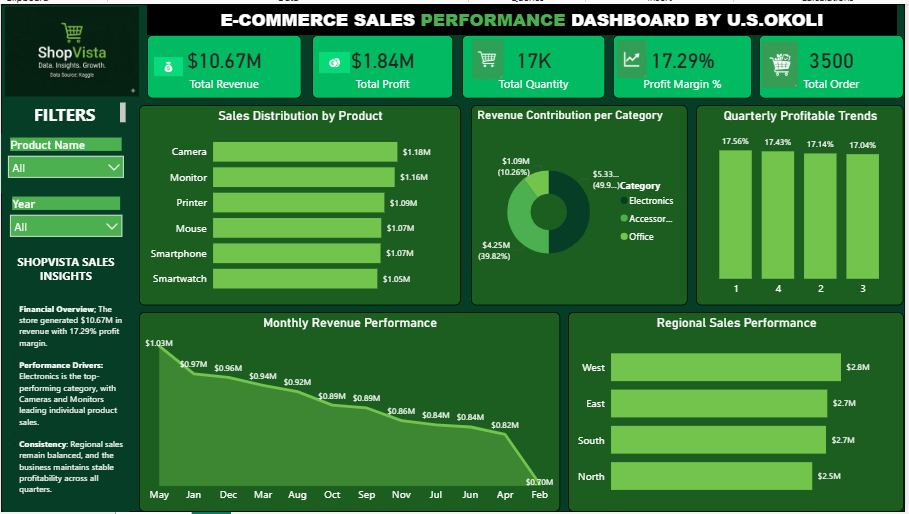

What the dashboard file says about the page in this screenshot:
{"tool":"powerbi","page":{"name":"Page 1","canvas":[1280,720],"ordinal":0},"visuals":[{"type":"card","fields":{"Values":["ecommerce_sales_data.Total Revenue"]},"box":[207.1,44.3,219,90],"z":0,"group":"g1"},{"type":"areaChart","title":"Monthly Revenue Performance","fields":{"Category":["ecommerce_sales_data.Month Name"],"Y":["ecommerce_sales_data.Total Revenue"]},"box":[195.6,436.5,596.7,283.5],"z":0},{"type":"card","fields":{"Values":["ecommerce_sales_data.Total Profit"]},"box":[440.3,44.3,200.1,90],"z":1000,"group":"g1"},{"type":"donutChart","title":"Revenue Contribution per Category","fields":{"Y":["ecommerce_sales_data.Total Revenue"],"Category":["ecommerce_sales_data.Category"]},"box":[665.7,142.9,307.1,284.3],"z":1000},{"type":"card","fields":{"Values":["ecommerce_sales_data.Total Quantity"]},"box":[652.9,44.3,203.2,90],"z":2000,"group":"g1"},{"type":"barChart","title":"Sales Distribution by Product ","fields":{"Y":["ecommerce_sales_data.Total Revenue"],"Category":["ecommerce_sales_data.Product Name"]},"box":[195.7,142.9,455.7,284.3],"z":2000},{"type":"card","fields":{"Values":["ecommerce_sales_data.Profit Margin %"]},"box":[867.2,44.3,196.9,90],"z":3000,"group":"g1"},{"type":"barChart","title":"Regional Sales Performance","fields":{"Category":["ecommerce_sales_data.Region"],"Y":["ecommerce_sales_data.Total Revenue"]},"box":[803.6,436.5,476.2,283.5],"z":3000},{"type":"card","fields":{"Values":["ecommerce_sales_data.Total Order"]},"box":[1075.2,44.3,204.8,90],"z":4000,"group":"g1"},{"type":"columnChart","title":"Quarterly Profitable Trends","fields":{"Category":["ecommerce_sales_data.Quarter"],"Y":["ecommerce_sales_data.Profit Margin %"]},"box":[985.7,142.9,294.3,284.3],"z":4000},{"type":"image","box":[661.9,49.6,55.3,56.7],"z":5000,"group":"g1"},{"type":"slicer","fields":{"Values":["ecommerce_sales_data.Product Name"]},"box":[0,184.3,184.3,83.6],"z":5000},{"type":"image","box":[1078.6,49.6,51,72.3],"z":6000,"group":"g1"},{"type":"slicer","fields":{"Values":["ecommerce_sales_data.Year"]},"box":[2.8,267.9,178.6,80.8],"z":6000},{"type":"textbox","box":[206.9,0,1063,43.9],"z":7000},{"type":"group","id":"g1","title":"Group 1","box":[207.1,44.3,1072.9,90],"z":8000},{"type":"image","box":[5.7,0,189.9,134.6],"z":9000},{"type":"textbox","box":[5.7,134.6,175.7,39.7],"z":10000},{"type":"image","box":[216.9,55.3,41.1,66.6],"z":11000},{"type":"image","box":[450.7,43.9,43.9,78],"z":12000},{"type":"image","box":[856.1,51,76.5,53.9],"z":13000},{"type":"textbox","box":[2.8,418.1,178.6,301.9],"z":14000},{"type":"textbox","box":[2.8,348.7,178.6,55.3],"z":15000}]}

Visuals, with their boxes in screenshot pixels (x1, y1, x2, y2), scaled from the page's 1280x720 canvas onto the 909x514 screenshot:
card - ecommerce_sales_data.Total Revenue: (147, 32, 303, 96)
"Monthly Revenue Performance" areaChart: (139, 312, 563, 513)
card - ecommerce_sales_data.Total Profit: (313, 32, 455, 96)
"Revenue Contribution per Category" donutChart: (473, 102, 691, 305)
card - ecommerce_sales_data.Total Quantity: (464, 32, 608, 96)
"Sales Distribution by Product " barChart: (139, 102, 463, 305)
card - ecommerce_sales_data.Profit Margin %: (616, 32, 756, 96)
"Regional Sales Performance" barChart: (571, 312, 908, 513)
card - ecommerce_sales_data.Total Order: (764, 32, 908, 96)
"Quarterly Profitable Trends" columnChart: (700, 102, 908, 305)
image: (470, 35, 509, 76)
slicer - ecommerce_sales_data.Product Name: (0, 132, 131, 191)
image: (766, 35, 802, 87)
slicer - ecommerce_sales_data.Year: (2, 191, 129, 249)
textbox: (147, 0, 902, 31)
"Group 1" group: (147, 32, 908, 96)
image: (4, 0, 139, 96)
textbox: (4, 96, 129, 124)
image: (154, 39, 183, 87)
image: (320, 31, 351, 87)
image: (608, 36, 662, 75)
textbox: (2, 298, 129, 513)
textbox: (2, 249, 129, 288)
